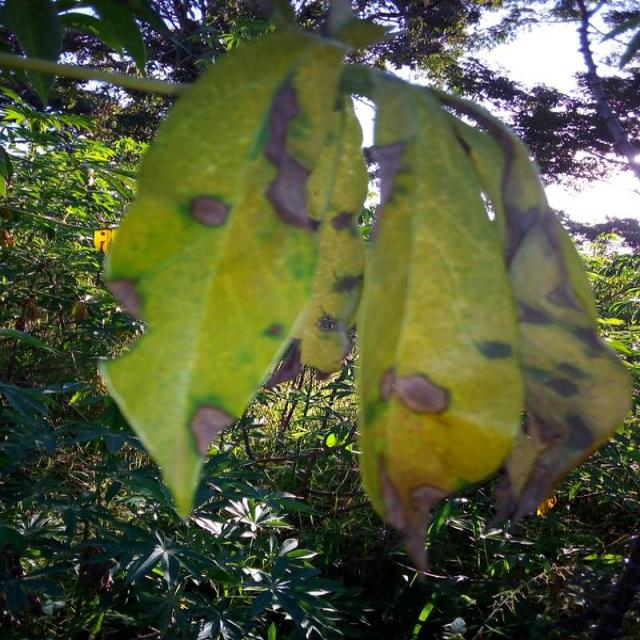cassava leaf: (95, 23, 367, 520), (350, 64, 526, 574), (446, 94, 634, 532)
